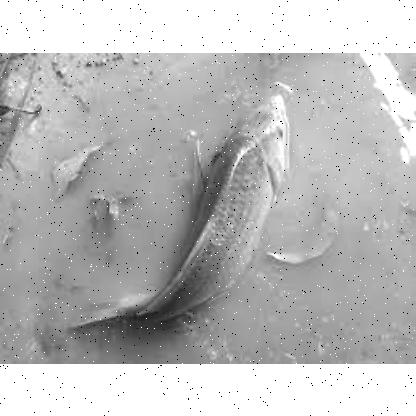ikan-mas: (72, 86, 296, 336)
